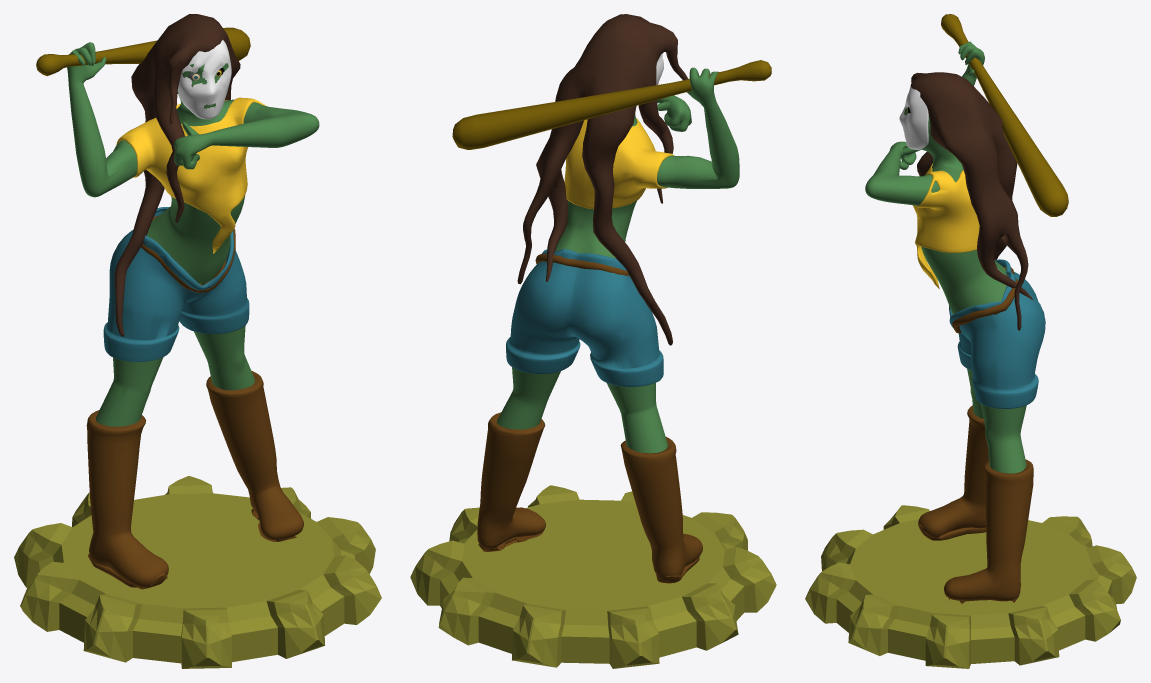
File: Femaleunified.fbx
3 views of the same model, side by side, from view 1: azimuth 30°, elevation 25°; view 2: azimuth 150°, elevation 25°; view 3: azimuth 270°, elevation 25° (orthographic). The views are drawn at different scales.
Visible parts, largest first — view 1: PeanaSol_copy2; view 2: PeanaSol_copy2; view 3: PeanaSol_copy2.
Part boxes in pixels (x1,y1,x2,y2): PeanaSol_copy2: (14, 14, 381, 668); PeanaSol_copy2: (410, 14, 776, 668); PeanaSol_copy2: (805, 14, 1136, 668).
Bounding box in the file's own units: 5.46 × 9.25 × 5.31.
